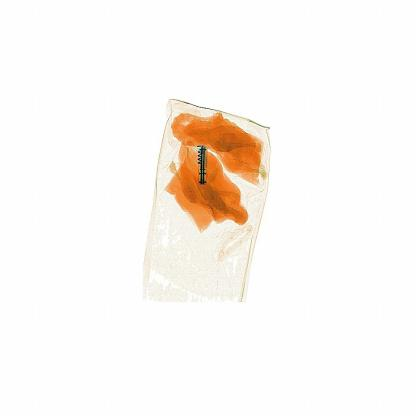scissors: (192, 141, 217, 197)
